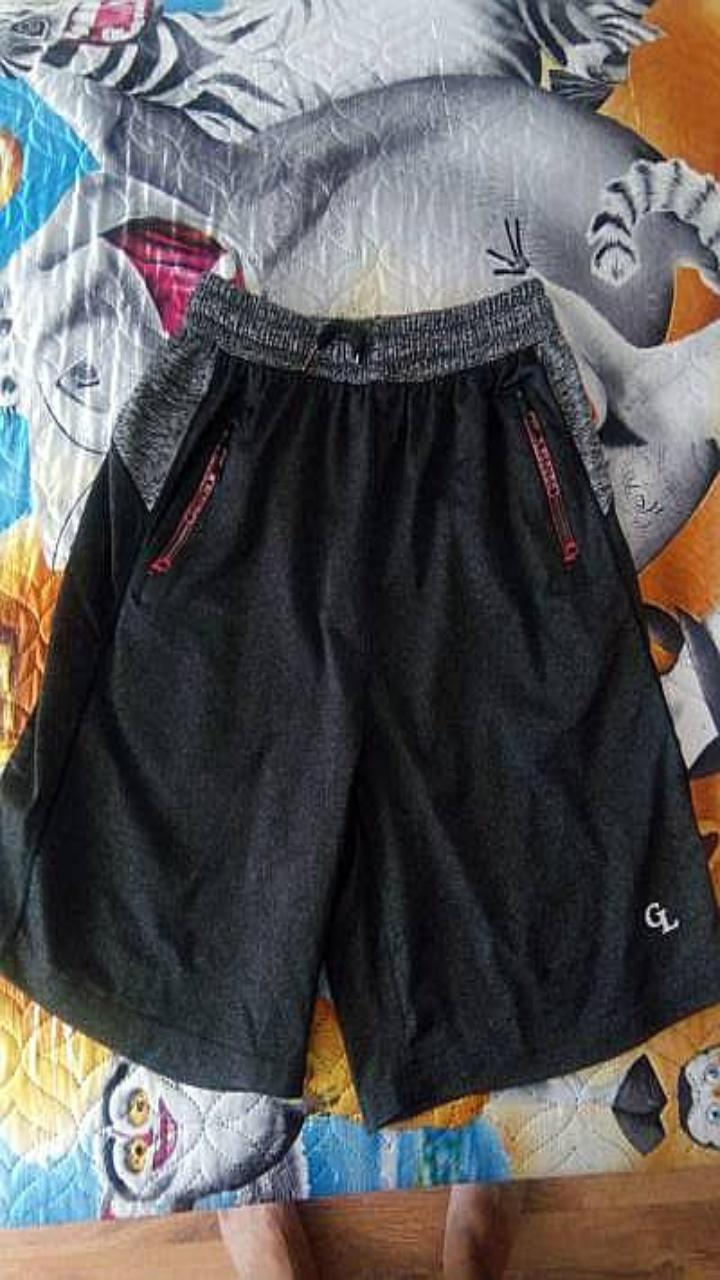Shorts: (0, 275, 719, 1129)
